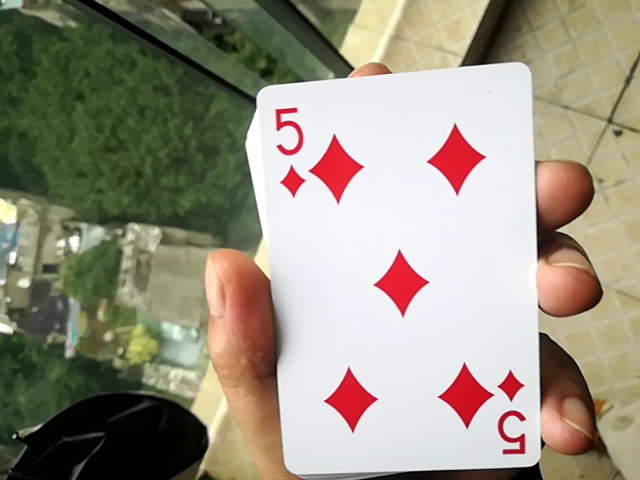fk 5: (236, 54, 545, 475)
